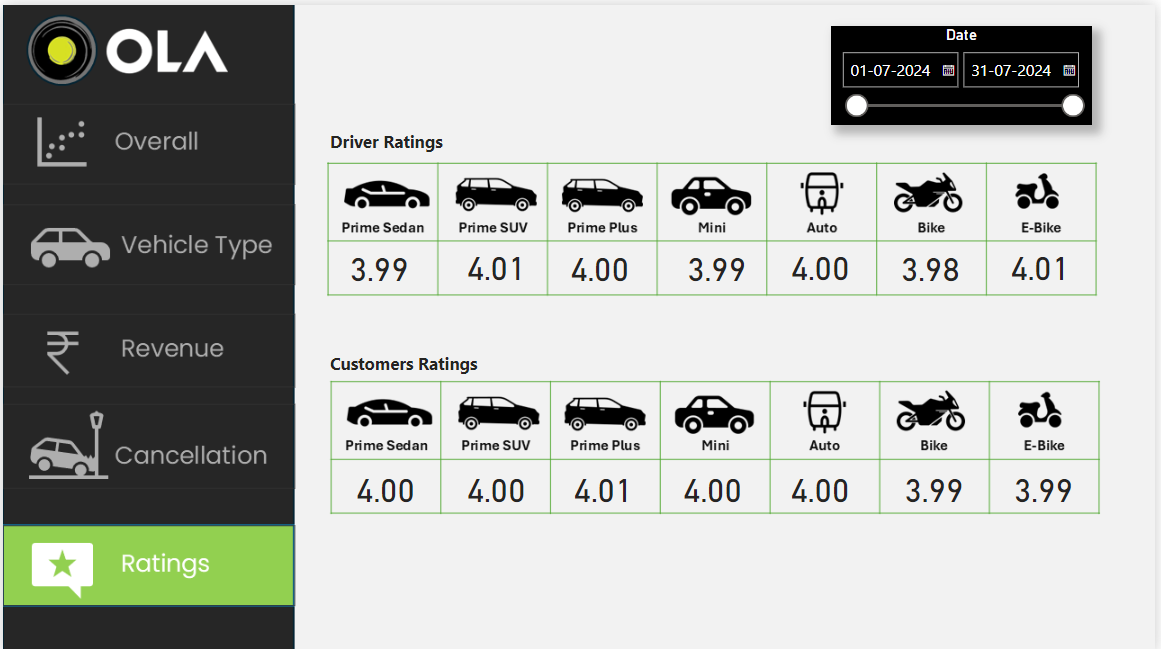

Layout of this report page (visuals, bound fields, positions):
{"tool":"powerbi","page":{"name":"Ratings","canvas":[1280,720],"ordinal":4},"visuals":[{"type":"actionButton","box":[0,221.1,324.5,89.1],"z":0},{"type":"actionButton","box":[0,343.6,324.5,81.1],"z":1000},{"type":"actionButton","box":[0,443.8,324.5,93.8],"z":2000},{"type":"actionButton","box":[0,579,324.5,89.1],"z":3000},{"type":"actionButton","box":[0,109.8,324.5,89.1],"z":4000},{"type":"card","fields":{"Values":["Avg(Bookings.Driver_Ratings)"]},"box":[371.7,268.3,91.7,45],"z":5000},{"type":"card","fields":{"Values":["Avg(Bookings.Driver_Ratings)"]},"box":[490,266.7,115,45],"z":6000},{"type":"card","fields":{"Values":["Avg(Bookings.Driver_Ratings)"]},"box":[605,268.3,115,45],"z":7000},{"type":"card","fields":{"Values":["Avg(Bookings.Driver_Ratings)"]},"box":[735,260,115,60],"z":8000},{"type":"card","fields":{"Values":["Avg(Bookings.Driver_Ratings)"]},"box":[850,266.7,115,45],"z":9000},{"type":"card","fields":{"Values":["Avg(Bookings.Driver_Ratings)"]},"box":[980,268.3,100,45],"z":10000},{"type":"card","fields":{"Values":["Avg(Bookings.Driver_Ratings)"]},"box":[1101.7,266.7,100,45],"z":11000},{"type":"textbox","box":[358.3,133.3,145,38.3],"z":12000},{"type":"textbox","box":[358.3,380,190,45],"z":13000},{"type":"card","fields":{"Values":["Avg(Bookings.Customer_Rating)"]},"box":[372,513,106,45],"z":14000},{"type":"card","fields":{"Values":["Avg(Bookings.Customer_Rating)"]},"box":[490,513,115,45],"z":15000},{"type":"card","fields":{"Values":["Avg(Bookings.Customer_Rating)"]},"box":[614,513,106,45],"z":16000},{"type":"card","fields":{"Values":["Avg(Bookings.Customer_Rating)"]},"box":[735,513,106,45],"z":17000},{"type":"card","fields":{"Values":["Avg(Bookings.Customer_Rating)"]},"box":[854,513,108,45],"z":18000},{"type":"card","fields":{"Values":["Avg(Bookings.Customer_Rating)"]},"box":[980,513,108,45],"z":19000},{"type":"card","fields":{"Values":["Avg(Bookings.Customer_Rating)"]},"box":[1102,513,108,45],"z":20000},{"type":"slicer","title":"Date","fields":{"Values":["Bookings.Date"]},"box":[920,24,290,110],"z":21000}]}

Visuals, with their boxes in screenshot pixels (x1, y1, x2, y2), scaled from the page's 1280x720 canvas onto the 1161x649 screenshot:
actionButton: locate(0, 199, 294, 280)
actionButton: locate(0, 310, 294, 383)
actionButton: locate(0, 400, 294, 485)
actionButton: locate(0, 522, 294, 602)
actionButton: locate(0, 99, 294, 179)
card - Avg(Bookings.Driver_Ratings): locate(337, 242, 420, 282)
card - Avg(Bookings.Driver_Ratings): locate(444, 240, 549, 281)
card - Avg(Bookings.Driver_Ratings): locate(549, 242, 653, 282)
card - Avg(Bookings.Driver_Ratings): locate(667, 234, 771, 288)
card - Avg(Bookings.Driver_Ratings): locate(771, 240, 875, 281)
card - Avg(Bookings.Driver_Ratings): locate(889, 242, 980, 282)
card - Avg(Bookings.Driver_Ratings): locate(999, 240, 1090, 281)
textbox: locate(325, 120, 457, 155)
textbox: locate(325, 343, 497, 383)
card - Avg(Bookings.Customer_Rating): locate(337, 462, 434, 503)
card - Avg(Bookings.Customer_Rating): locate(444, 462, 549, 503)
card - Avg(Bookings.Customer_Rating): locate(557, 462, 653, 503)
card - Avg(Bookings.Customer_Rating): locate(667, 462, 763, 503)
card - Avg(Bookings.Customer_Rating): locate(775, 462, 873, 503)
card - Avg(Bookings.Customer_Rating): locate(889, 462, 987, 503)
card - Avg(Bookings.Customer_Rating): locate(1000, 462, 1098, 503)
"Date" slicer: locate(834, 22, 1098, 121)
